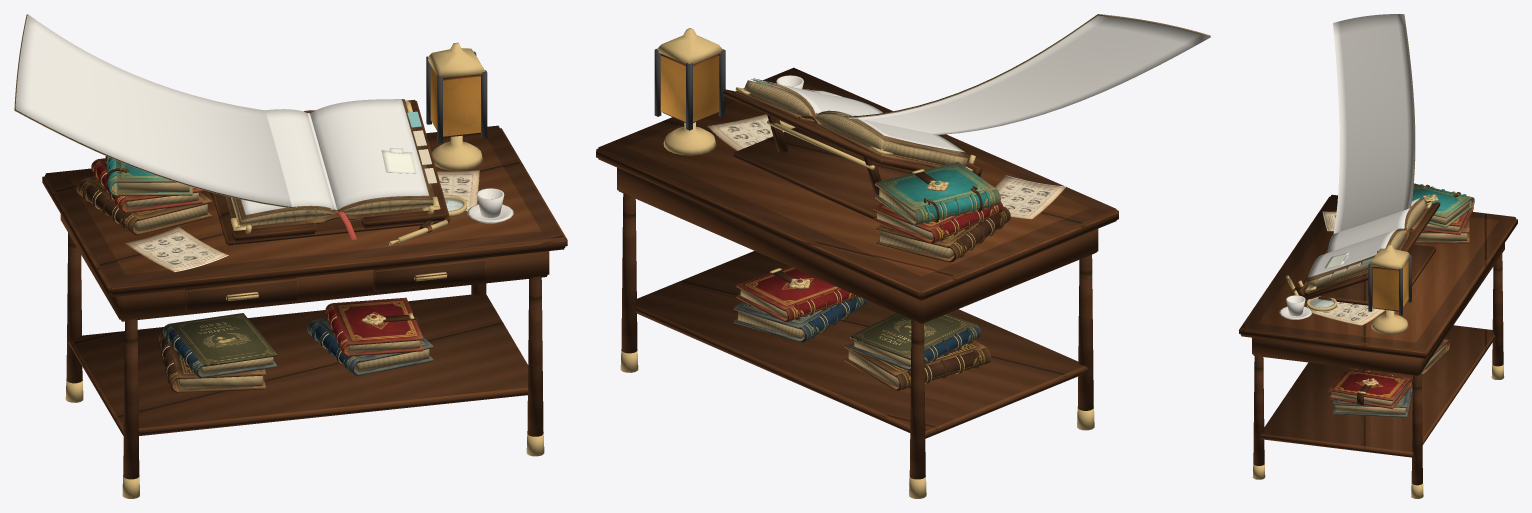
File: chunk_03_book.glb
3 renders of one model, left to right at view 1: azimuth 30°, elevation 25°; view 2: azimuth 150°, elevation 25°; view 3: azimuth 270°, elevation 25°, orthographic. The views are drawn at different scales.
Visible parts, largest first — view 1: L03_Book_Reading_Desk, UI_Prop_CollectionBook, Book_FlipLeaf, Book_Page_Right, Book_Page_Left, Book_Prop_PostIt; view 2: L03_Book_Reading_Desk, UI_Prop_CollectionBook, Book_FlipLeaf, Book_Page_Right, Book_Page_Left; view 3: L03_Book_Reading_Desk, Book_FlipLeaf, UI_Prop_CollectionBook, Book_Page_Left, Book_Page_Right.
Boxes of the visible parts, x1,y1,x2,y2 form: L03_Book_Reading_Desk: [42, 42, 567, 498]; UI_Prop_CollectionBook: [76, 99, 479, 393]; Book_FlipLeaf: [14, 14, 337, 210]; Book_Page_Right: [310, 99, 429, 210]; Book_Page_Left: [241, 109, 334, 215]; Book_Prop_PostIt: [381, 150, 416, 173]; L03_Book_Reading_Desk: [596, 28, 1118, 498]; UI_Prop_CollectionBook: [707, 79, 1066, 391]; Book_FlipLeaf: [816, 14, 1210, 134]; Book_Page_Right: [753, 78, 882, 115]; Book_Page_Left: [818, 110, 965, 152]; L03_Book_Reading_Desk: [1239, 194, 1517, 498]; Book_FlipLeaf: [1333, 14, 1415, 233]; UI_Prop_CollectionBook: [1286, 183, 1474, 417]; Book_Page_Left: [1328, 198, 1420, 252]; Book_Page_Right: [1307, 228, 1404, 277].
Size of the model in its own units: 2.1 by 1.68 by 1.31.
27 materials, 12 textured.
